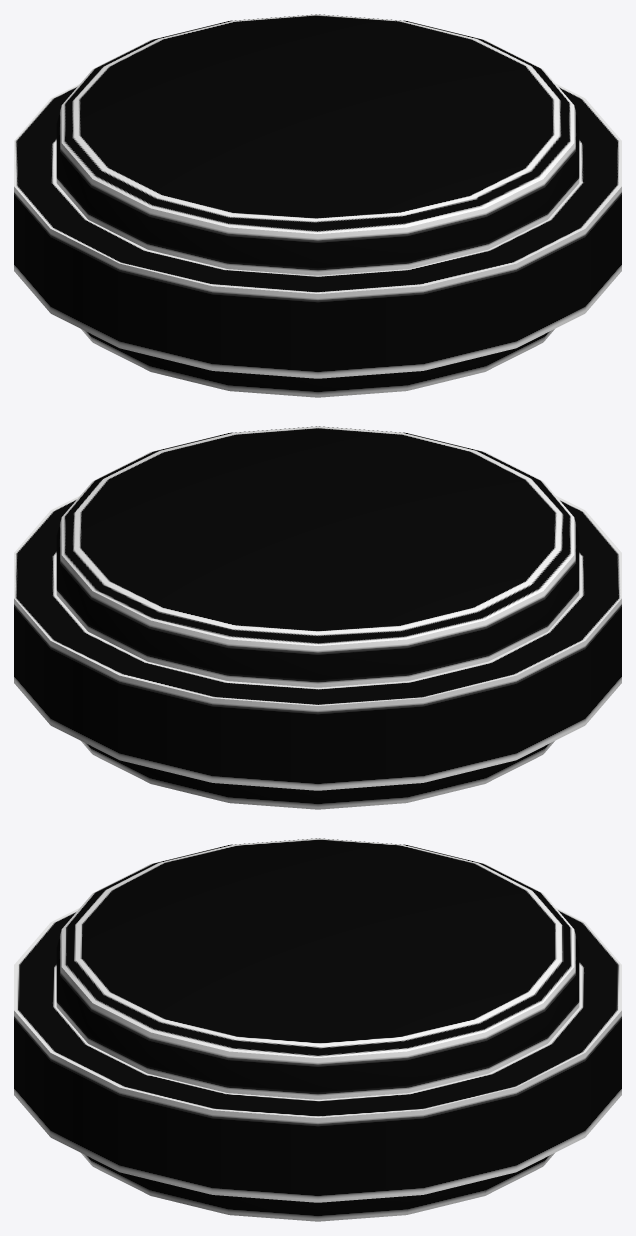
The model's file is SM_ronde.FBX.
3 renders of one model, top to bottom at view 1: azimuth 30°, elevation 25°; view 2: azimuth 150°, elevation 25°; view 3: azimuth 270°, elevation 25°, orthographic.
Parts seen in each view (by area): view 1: Cylinder001; view 2: Cylinder001; view 3: Cylinder001.
Part boxes in pixels (x1=…): Cylinder001: x1=14, y1=14, x2=621, y2=397; Cylinder001: x1=14, y1=426, x2=621, y2=809; Cylinder001: x1=14, y1=838, x2=621, y2=1221.
Bounding box in the file's own units: 1029 × 325 × 1013.
